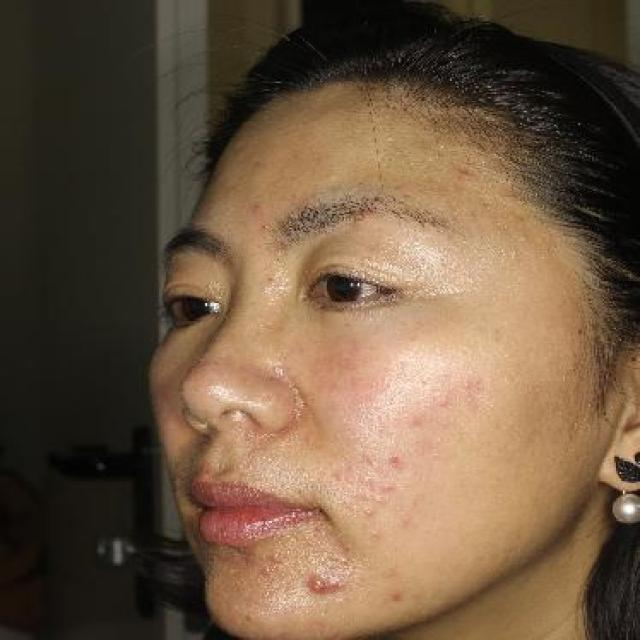papules: (322, 574, 349, 594), (257, 558, 279, 580), (264, 548, 288, 564)
pustules: (303, 569, 330, 600)
whiteheads: (433, 392, 460, 410), (358, 503, 382, 522), (358, 251, 378, 266)
